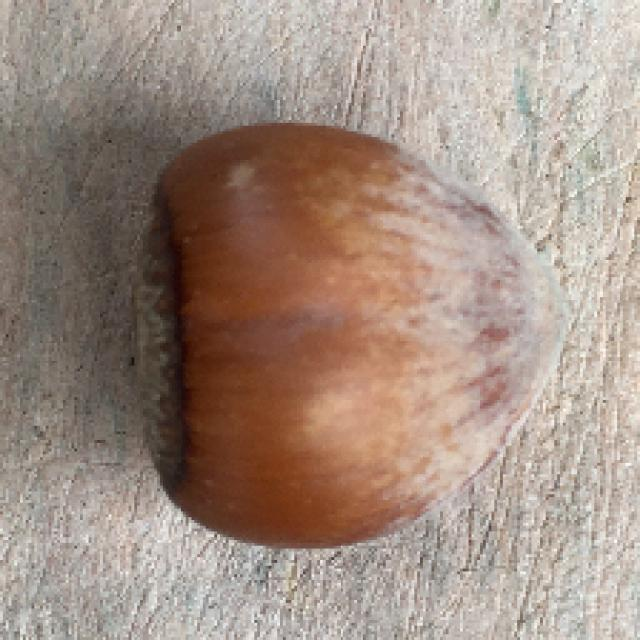QualityHazelnut: (131, 121, 572, 551)
